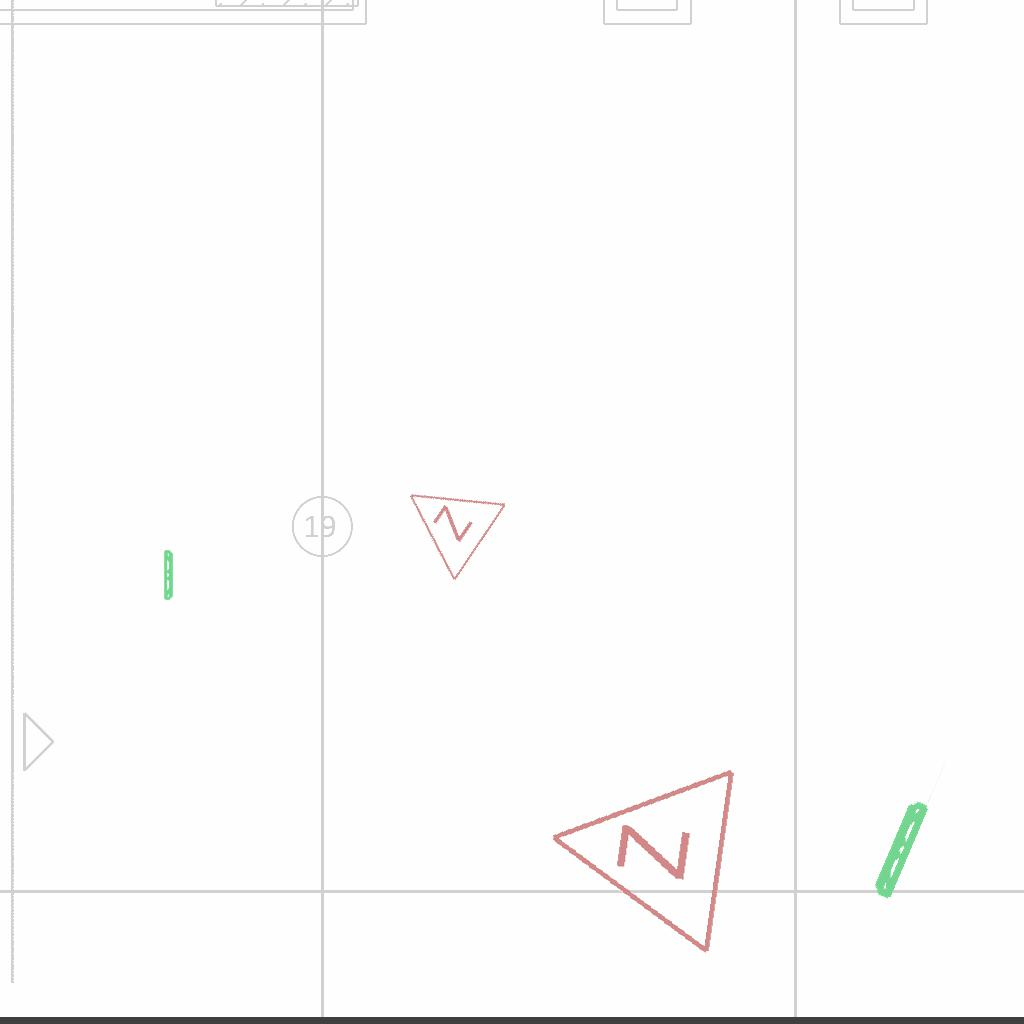Sicherheitsleuchte_Wandeinbau: (866, 747, 953, 904), (163, 548, 175, 627)
Zimmersignalleuchte: (524, 741, 750, 963), (376, 451, 514, 589)
